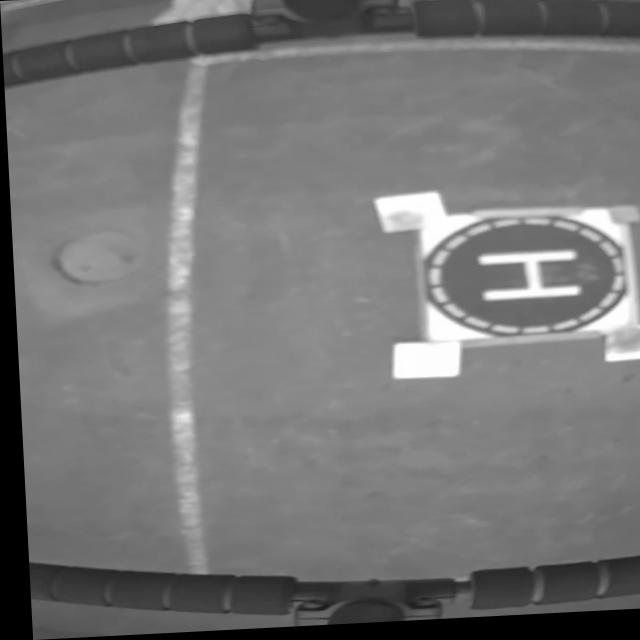Helipad: (471, 256, 581, 305)
